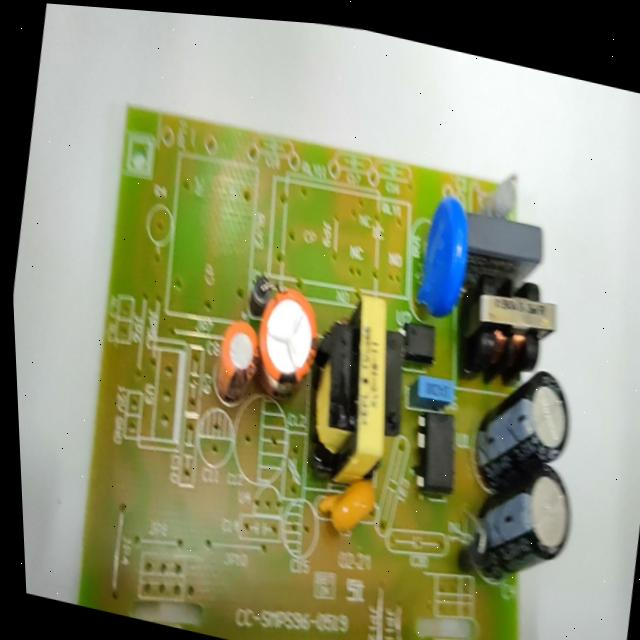Cap1: (241, 273, 332, 425)
Cap2: (204, 308, 268, 420)
Cap3: (457, 345, 589, 512)
Cap4: (456, 443, 588, 595)
MOSFET: (400, 393, 470, 508)
Mov: (402, 180, 483, 332)
Resistor: (483, 169, 524, 224)
Transformer: (288, 275, 430, 507), (435, 253, 574, 414)
